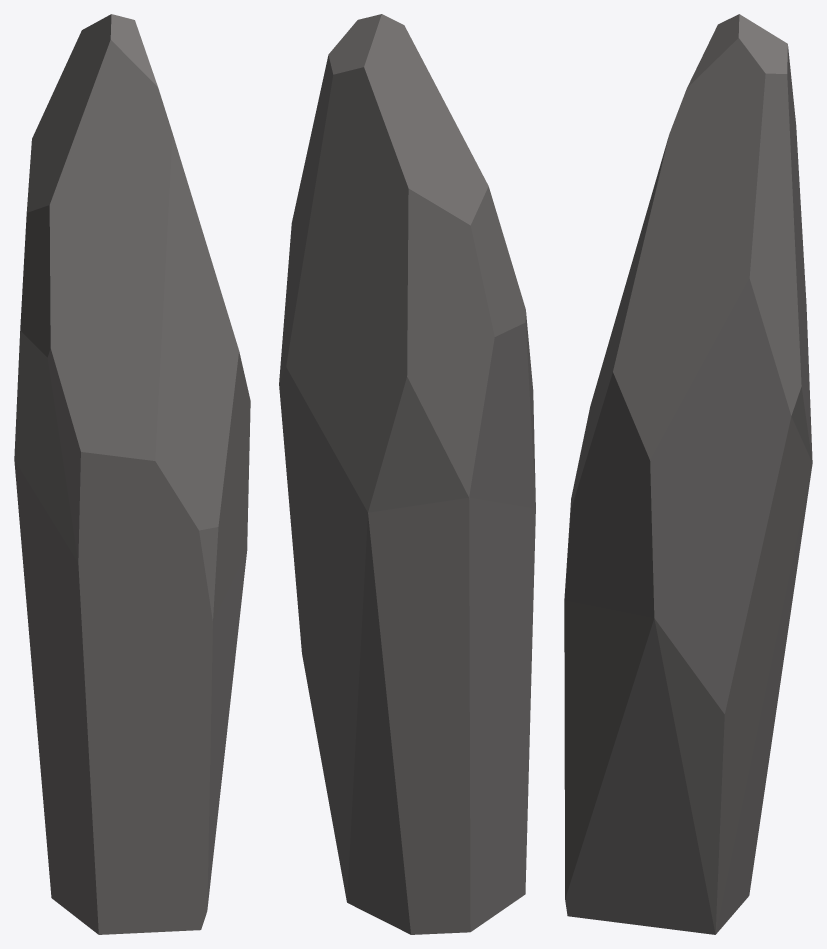
File: Rock_Sharp_m_09.fbx
The picture shows the model from 3 angles, left to right: view 1: azimuth 30°, elevation 25°; view 2: azimuth 150°, elevation 25°; view 3: azimuth 270°, elevation 25°; orthographic projection. The views are drawn at different scales.
Visible parts, largest first — view 1: Rock_Sharp_m_09; view 2: Rock_Sharp_m_09; view 3: Rock_Sharp_m_09.
Part boxes in pixels (bbox=[...]): Rock_Sharp_m_09: bbox=[14, 14, 250, 934]; Rock_Sharp_m_09: bbox=[279, 14, 535, 934]; Rock_Sharp_m_09: bbox=[564, 14, 812, 934].
Bounding box in the file's own units: 37.72 × 157 × 39.42.
